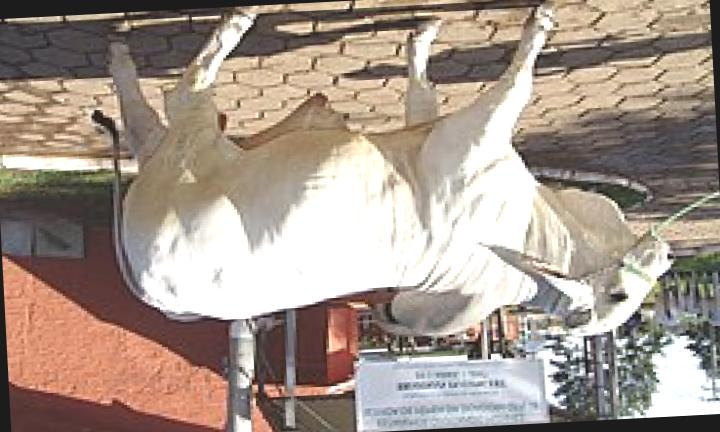Brahman: (109, 5, 670, 335)
